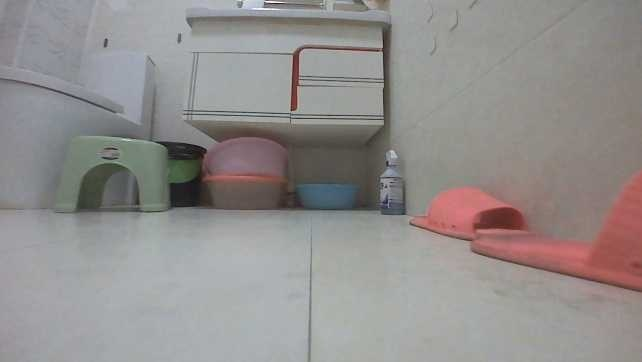plastic_stool: (55, 133, 174, 214)
slipper: (469, 170, 640, 292), (407, 183, 534, 239)
toilet: (0, 48, 157, 212)
washstand: (178, 5, 395, 151)
